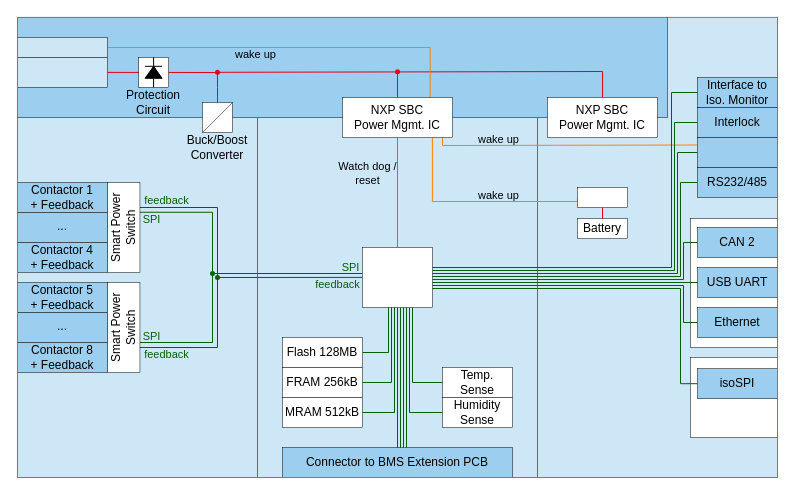
This 795x497 diagram has some shape labels left out. The shapes that lost their labels are listed below. From the top down, each one's box as (x1, y1, x2, y2) in pixels, then its label:
(17, 37, 107, 57): Ignition (KL15)
(17, 57, 107, 87): Supply 6-60V
(697, 137, 777, 167): CAN 1
(577, 187, 627, 207): RTC
(362, 247, 432, 307): MCU TI TMS570
(690, 357, 777, 437): Interface PCB (exchangeable)
